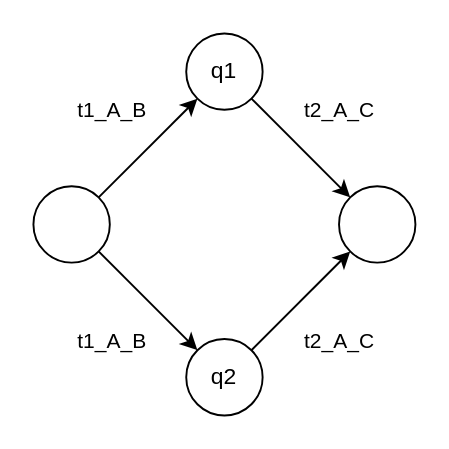
Some shapes in this 449 by 449 pixel diagram are drawn without their labels. Each missing label, with the box of its shape:
q0: (32, 184, 110, 263)
q3: (337, 184, 415, 263)
